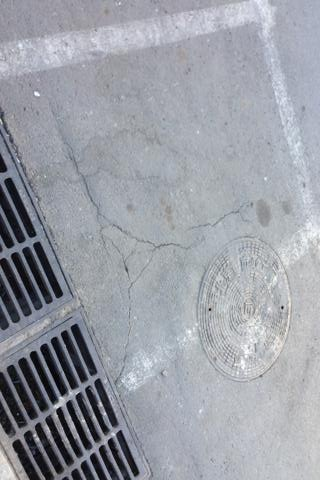A: (60, 130, 261, 256), (113, 256, 155, 391)
